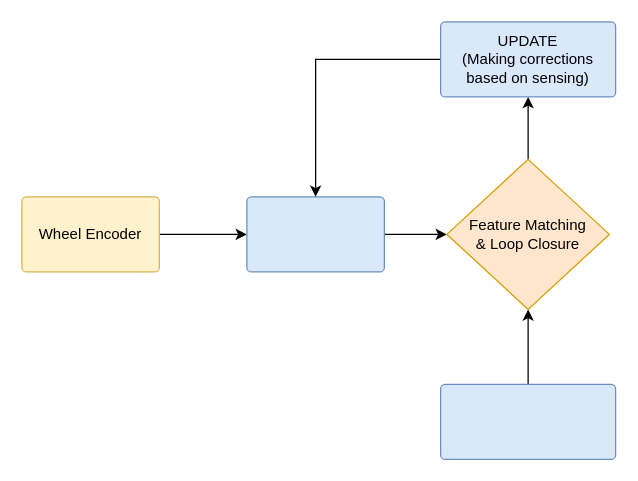
Some shapes in this 638 by 481 pixel diagram are drawn without their labels. Each missing label, with the centre of its shape:
PERCEPTION Using Camera, Lidar, IMU and other sensors: the point at 527,421
PREDICTION (Robot Model to pose - odometry): the point at 315,234
